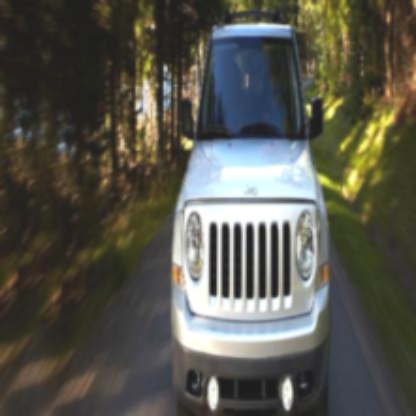Vehicle: (172, 27, 334, 414)
